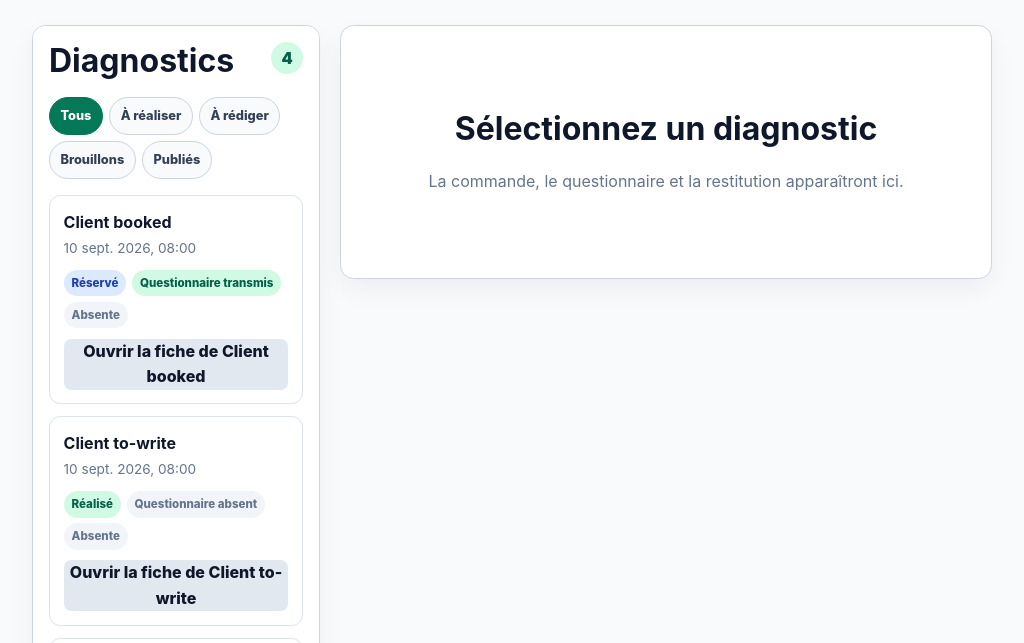
Test case: administration des Diagnostics IA et restitutions › signale un créneau devenu indisponible sans modifier la fiche
The image size is (1024, 643).
Click the button "Ouvrir la fiche de Client booked" at (176, 364), box [64,339,288,390]
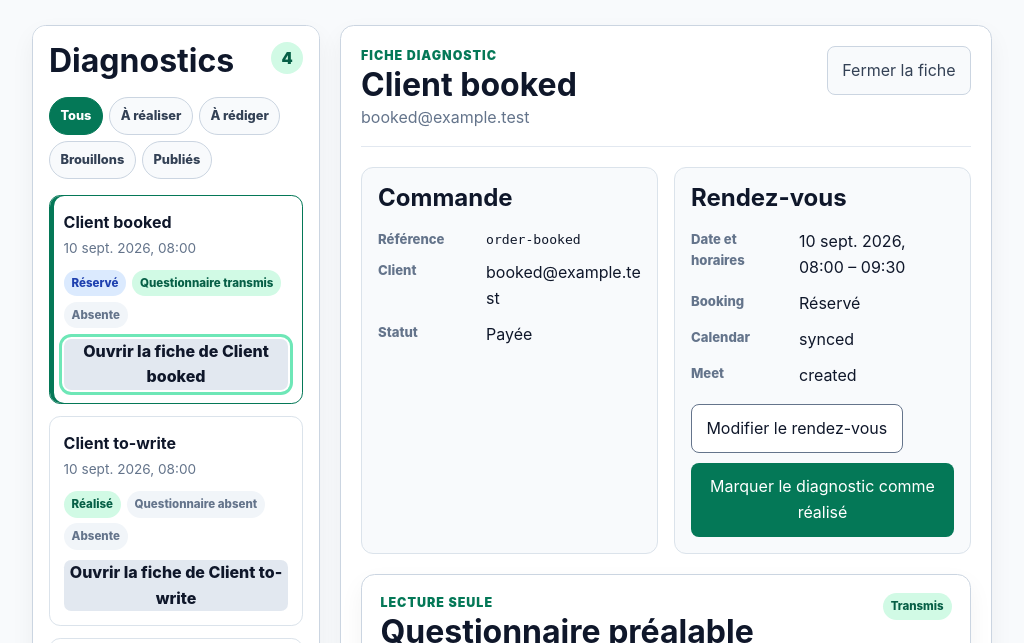
Expected: the heading "Client booked" is shown, [361,66,577,105]
Click the button "Modifier le rendez-vous" at (797, 428), box [691,404,903,453]
(page scrolled)
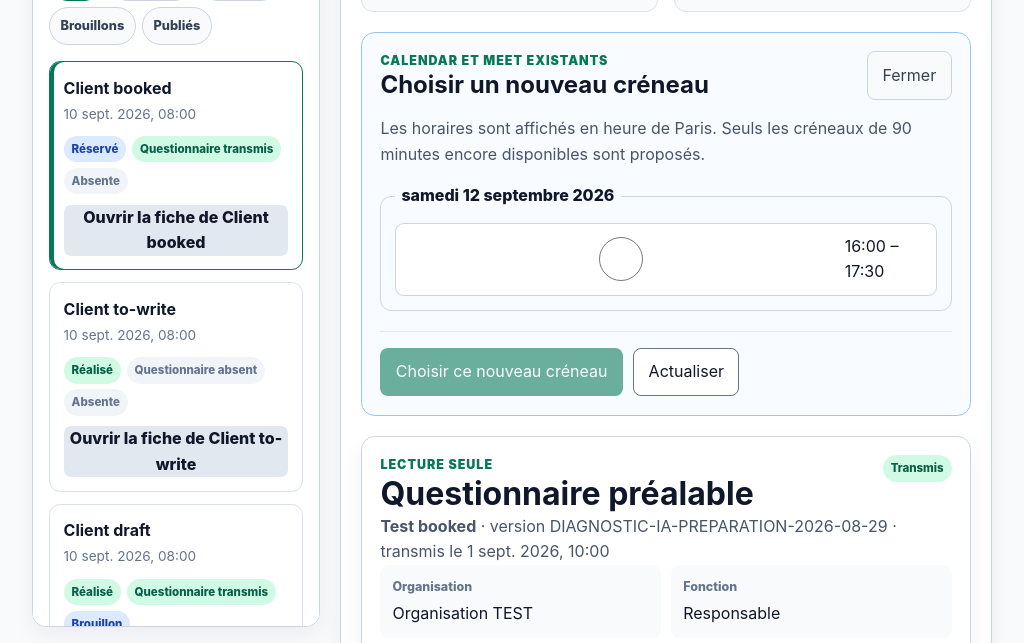
Click the radio button at (621, 260), box [406,238,836,282]
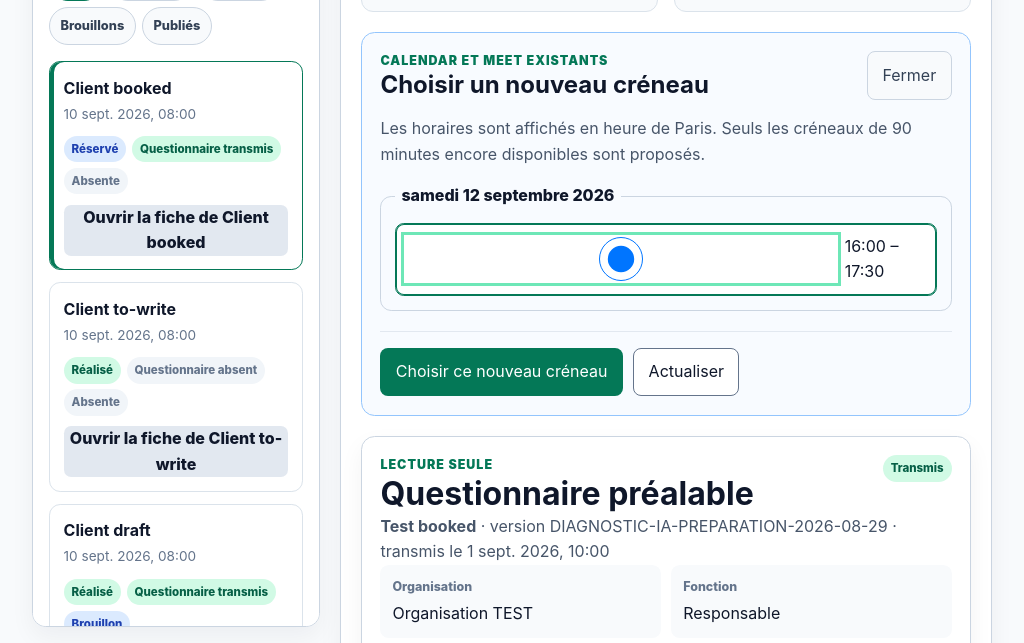
Click the button "Choisir ce nouveau créneau" at (502, 372), box [380,348,623,396]
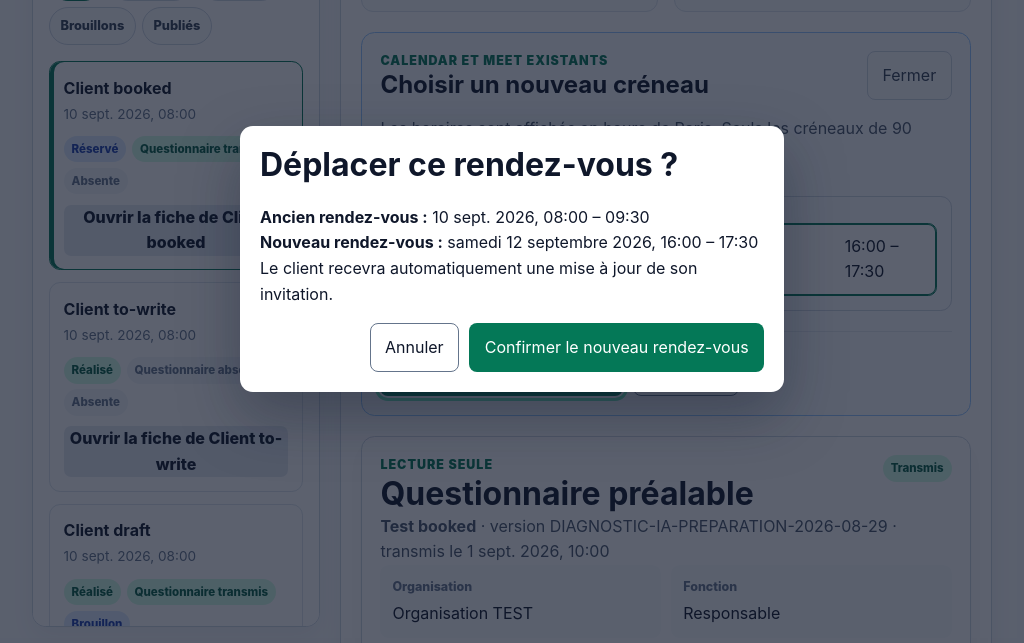
Click the button "Confirmer le nouveau rendez-vous" at (617, 347), box [469,323,764,372]
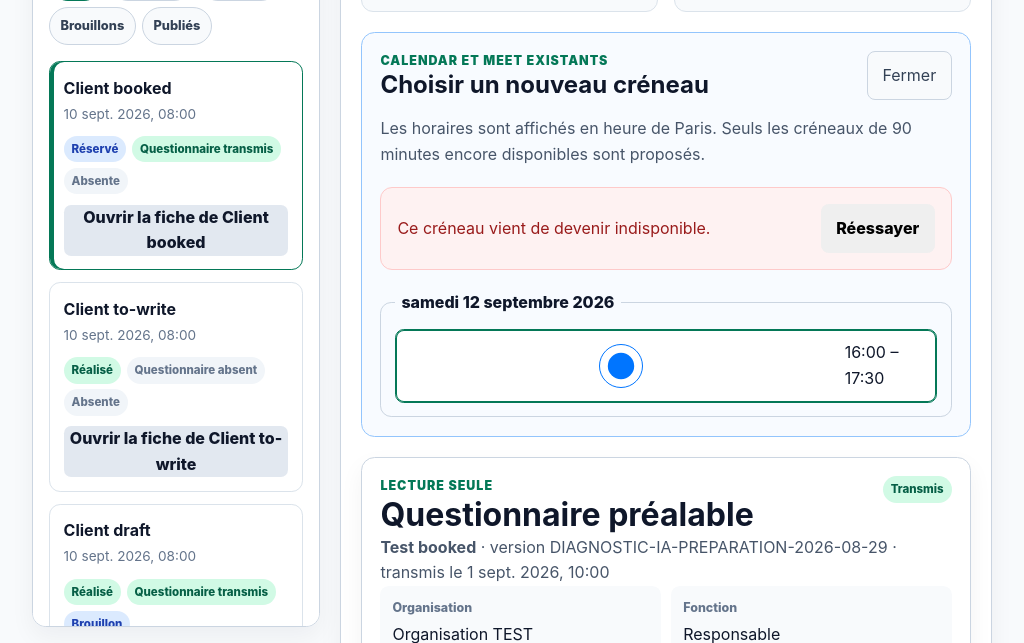
Expected: the 1st text "10 sept. 2026, 08:00" is shown, [64,105,196,121]
Expected: the message shows "vient de devenir indisponible", [397,218,710,238]
